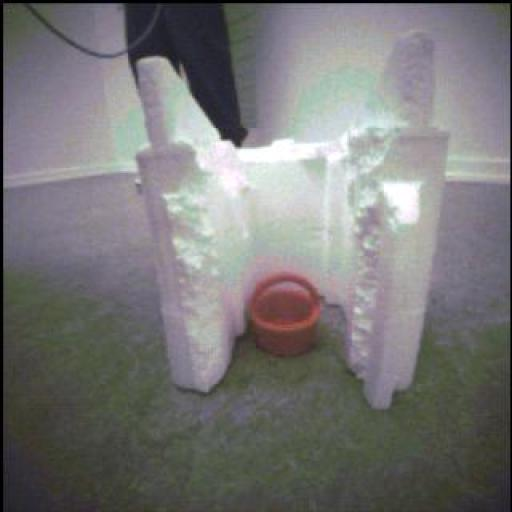Bucket: (248, 268, 325, 358)
